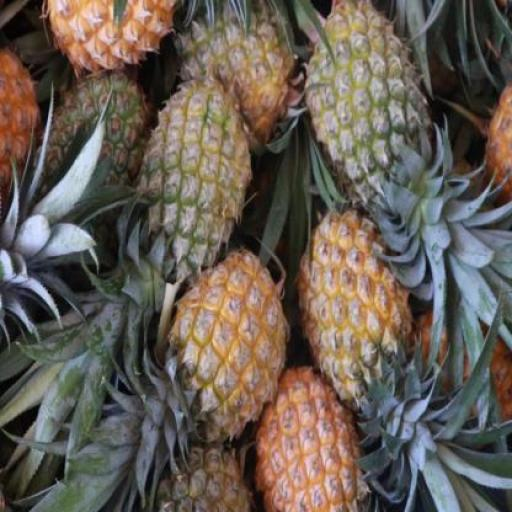------------------------------: (302, 0, 420, 214), (142, 82, 248, 276), (182, 2, 300, 146)
Pineapple - v8 v1: (301, 215, 409, 410), (170, 258, 278, 441), (256, 365, 369, 512)
